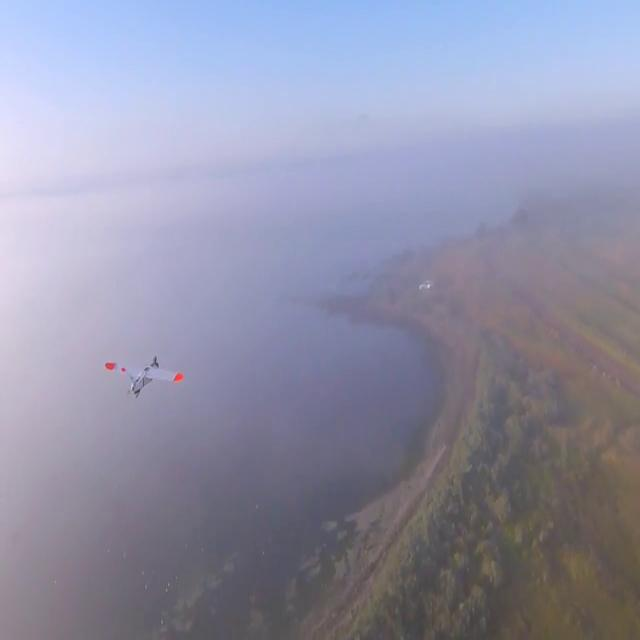iha: (135, 356, 153, 399)
